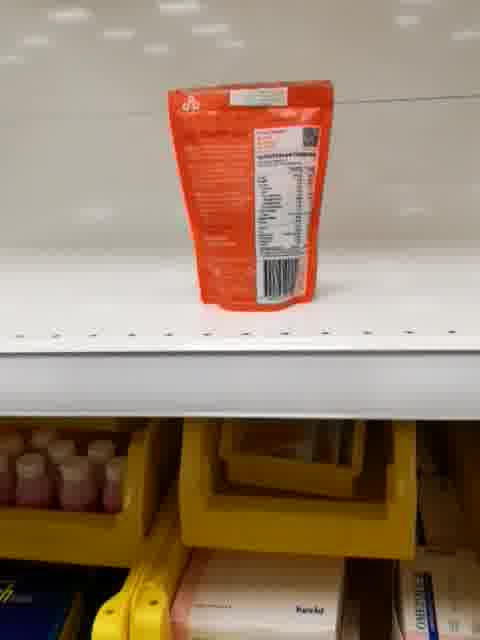whitechia: (163, 76, 340, 314)
